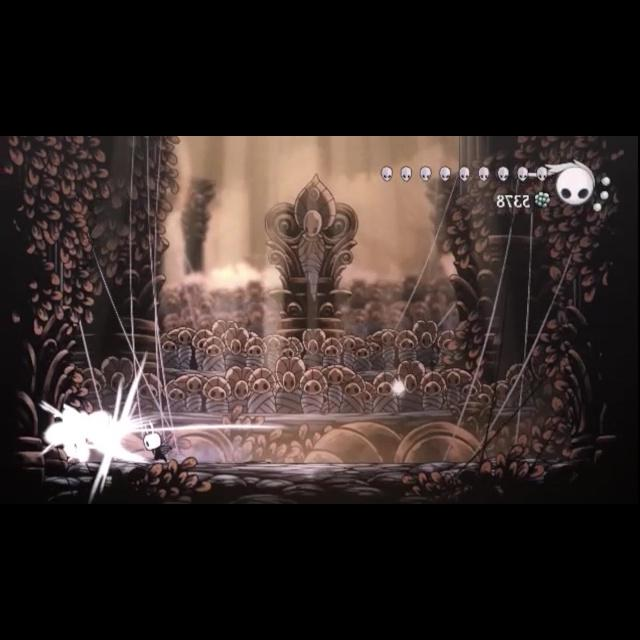EnemyDamaged: (53, 402, 99, 464)
Player: (136, 420, 176, 464)
